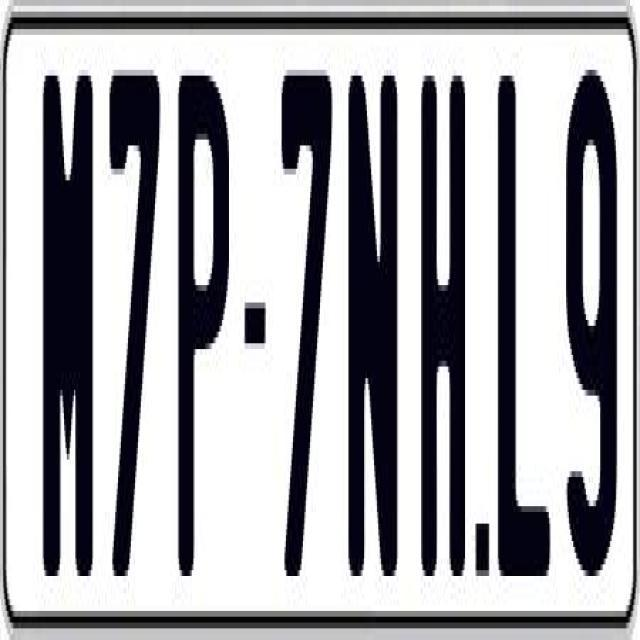7: (107, 58, 164, 570), (282, 76, 332, 612)
9: (563, 70, 613, 606)
H: (418, 64, 465, 600)
L: (498, 58, 554, 594)
M: (40, 70, 97, 606)
N: (344, 58, 392, 594)
P: (176, 64, 236, 576)
